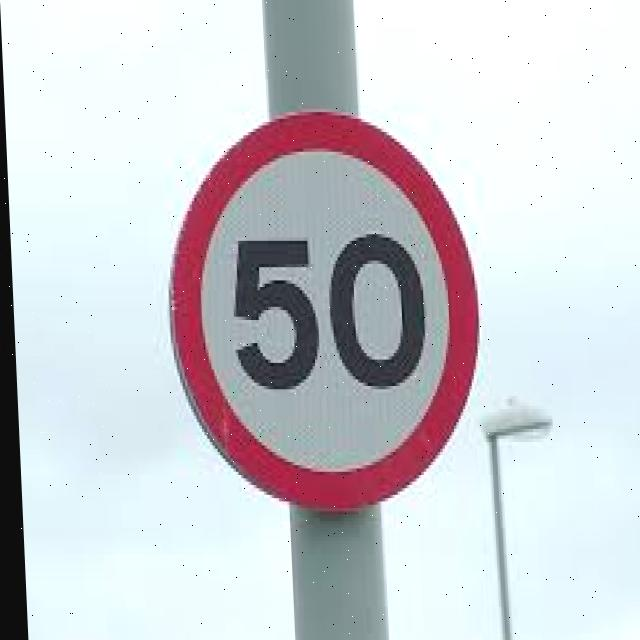Speed limit 50: (155, 107, 486, 516)
